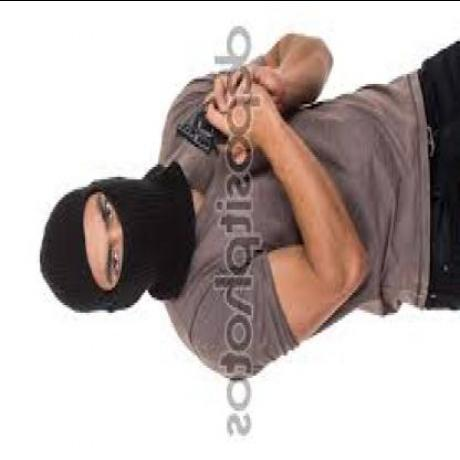1: (33, 35, 460, 374)
weapon: (172, 100, 243, 162)
